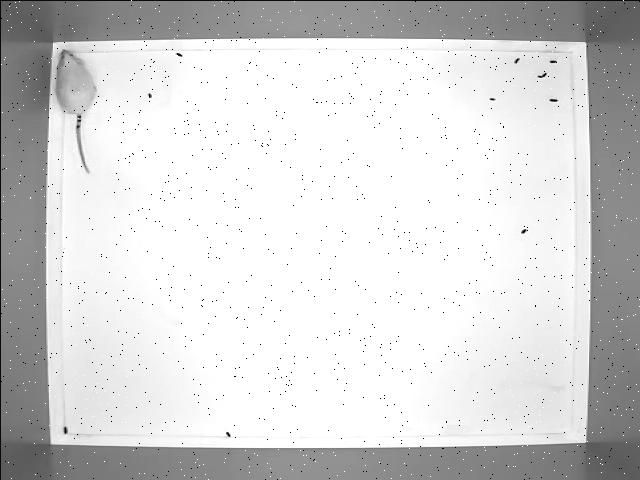Tikus: (46, 48, 96, 176)
